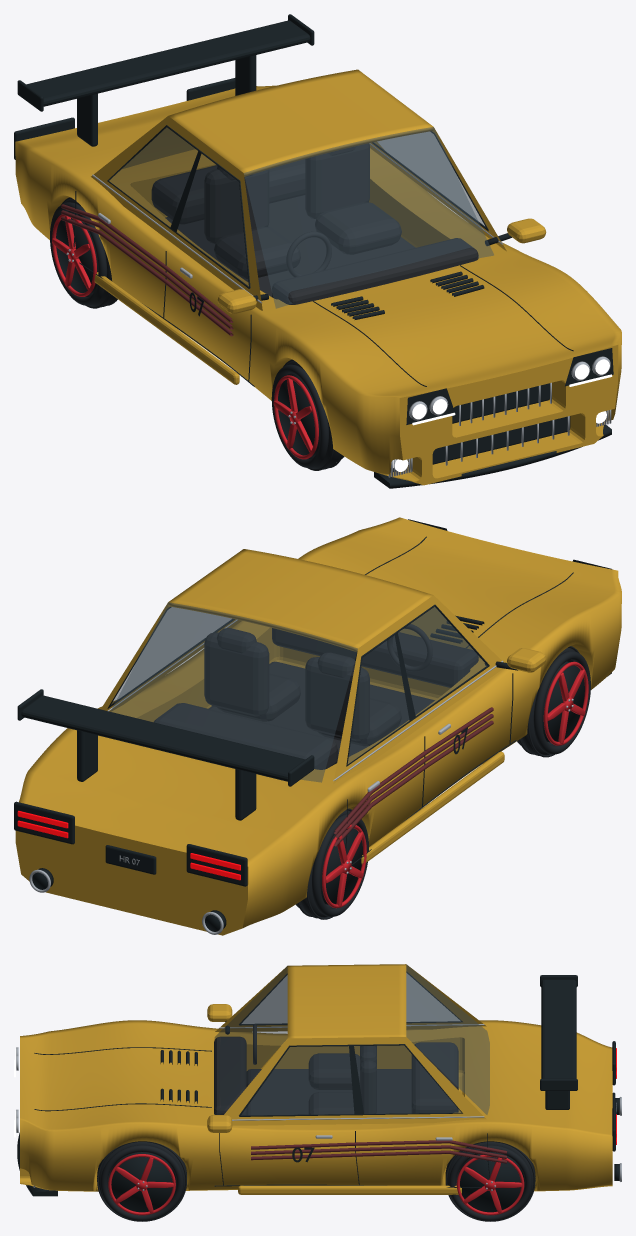
Rendered from rally.glb.
The picture shows the model from 3 angles, top to bottom: view 1: azimuth 30°, elevation 25°; view 2: azimuth 150°, elevation 25°; view 3: azimuth 270°, elevation 25°; orthographic projection. The views are drawn at different scales.
Visible parts, largest first — view 1: Body surfaces, WheelFrontR surfaces, WheelRearR surfaces; view 2: Body surfaces, WheelFrontR surfaces, WheelRearR surfaces; view 3: Body surfaces, WheelFrontL surfaces, WheelRearL surfaces.
Boxes of the visible parts, x1=… form: Body surfaces: x1=14, y1=14, x2=621, y2=488; WheelFrontR surfaces: x1=271, y1=359, x2=344, y2=470; WheelRearR surfaces: x1=50, y1=197, x2=117, y2=308; Body surfaces: x1=14, y1=517, x2=621, y2=935; WheelFrontR surfaces: x1=517, y1=646, x2=590, y2=757; WheelRearR surfaces: x1=296, y1=808, x2=368, y2=919; Body surfaces: x1=14, y1=964, x2=621, y2=1196; WheelFrontL surfaces: x1=97, y1=1141, x2=186, y2=1221; WheelRearL surfaces: x1=445, y1=1141, x2=535, y2=1221.
Bounding box in the file's own units: 2.21 × 1.49 × 4.66.
